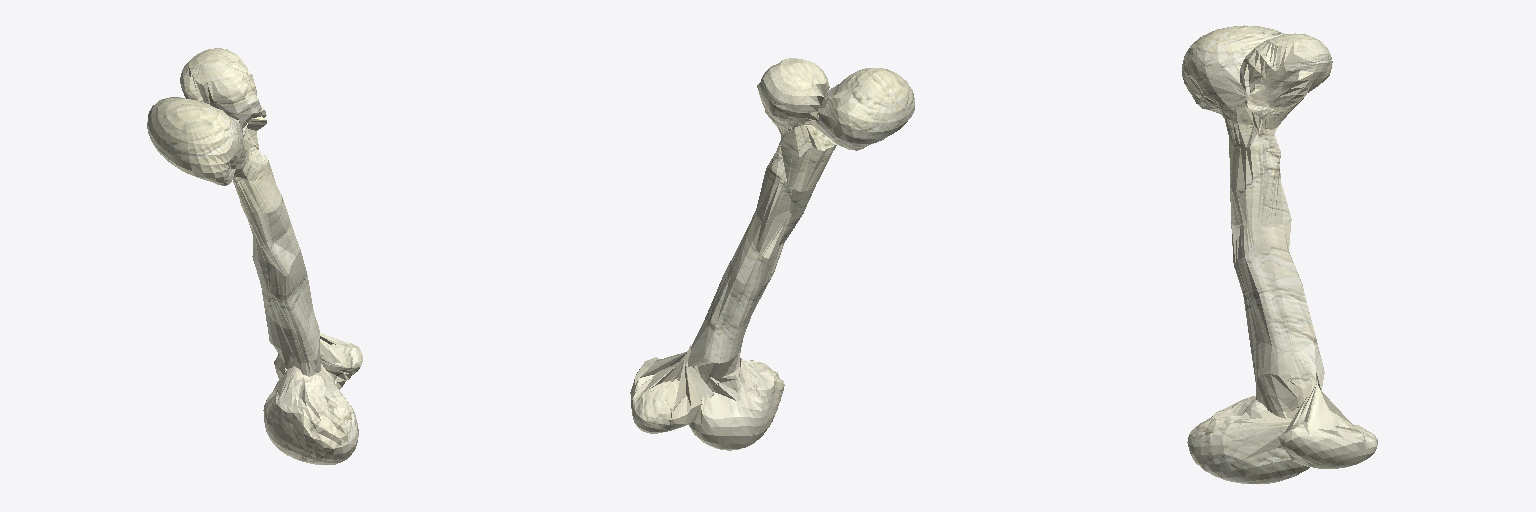
The picture shows the model from 3 angles: view 1: azimuth 30°, elevation 25°; view 2: azimuth 150°, elevation 25°; view 3: azimuth 270°, elevation 25°; orthographic projection.
Parts seen in each view (by area): view 1: Sphere.002; view 2: Sphere.002; view 3: Sphere.002.
Boxes of the visible parts, x1=… form: Sphere.002: x1=147, y1=48, x2=362, y2=464; Sphere.002: x1=630, y1=58, x2=914, y2=450; Sphere.002: x1=1182, y1=25, x2=1377, y2=483.
Size of the model in its own units: 5.12 by 8.81 by 3.82.
1 materials, 1 textured.